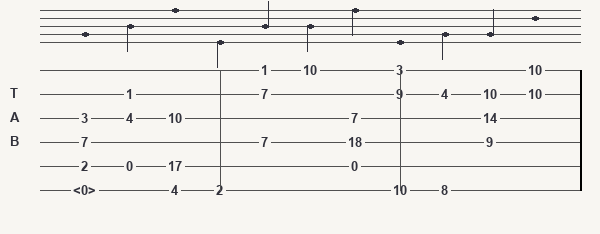0: (126, 159, 137, 173), (351, 159, 362, 173)
1: (126, 87, 137, 101), (261, 63, 272, 77)
10: (168, 111, 186, 125), (303, 63, 321, 77), (393, 183, 411, 197), (483, 87, 501, 101), (528, 63, 546, 77), (528, 87, 546, 101)
14: (483, 111, 501, 125)
17: (168, 159, 186, 173)
18: (348, 135, 366, 149)
2: (81, 159, 92, 173), (216, 183, 227, 197)
3: (81, 111, 92, 125), (396, 63, 407, 77)
4: (126, 111, 137, 125), (171, 183, 182, 197), (441, 87, 452, 101)
7: (81, 135, 92, 149), (261, 87, 272, 101), (261, 135, 272, 149), (351, 111, 362, 125)
8: (441, 183, 452, 197)
9: (396, 87, 407, 101), (486, 135, 497, 149)
harmonic: (73, 183, 100, 197)
